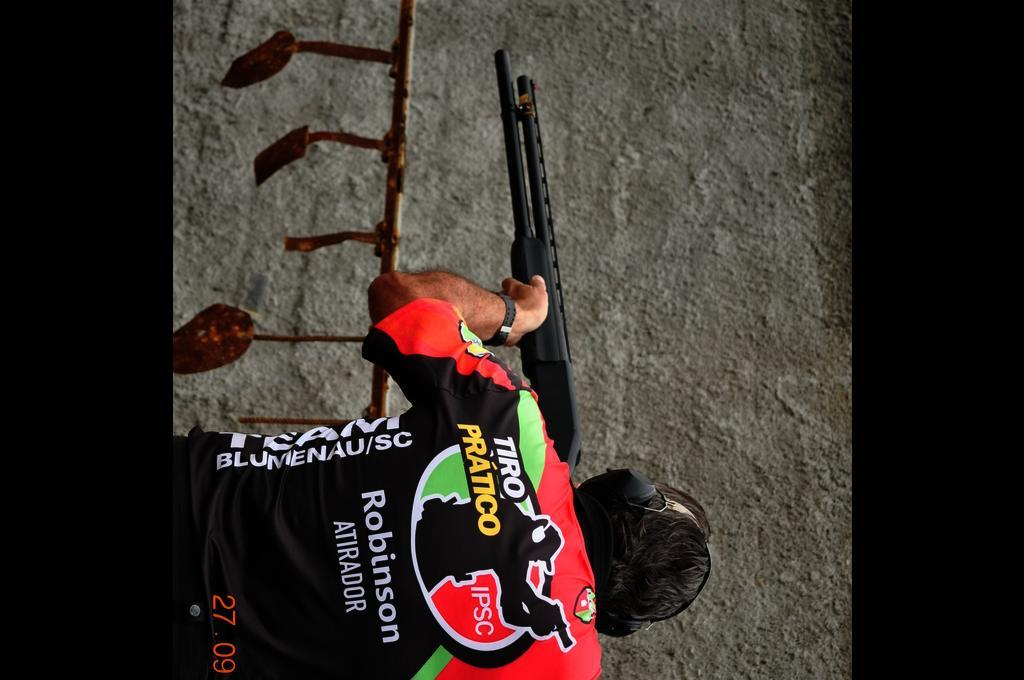gun: (482, 46, 582, 468)
